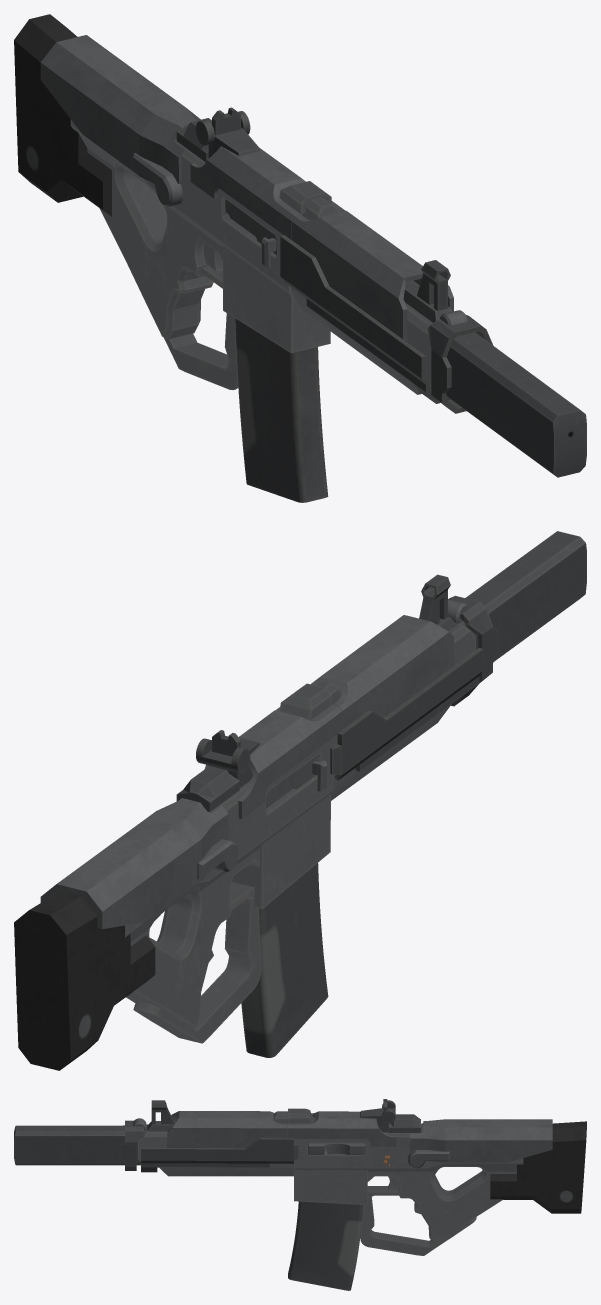
3 views of the same model, one above another, from view 1: azimuth 30°, elevation 25°; view 2: azimuth 150°, elevation 25°; view 3: azimuth 270°, elevation 25° (orthographic). The views are drawn at different scales.
Parts seen in each view (by area): view 1: add1_lo_ADD_0, clip_lo_Scope_0, body_lo_Material_0; view 2: add1_lo_ADD_0, clip_lo_Scope_0, body_lo_Material_0; view 3: add1_lo_ADD_0, clip_lo_Scope_0, body_lo_Material_0.
Part boxes in pixels (left/top/right/bottom): add1_lo_ADD_0: left=14, top=14, right=468, bottom=341; clip_lo_Scope_0: left=176, top=107, right=586, bottom=502; body_lo_Material_0: left=70, top=119, right=432, bottom=394; add1_lo_ADD_0: left=14, top=599, right=467, bottom=1070; clip_lo_Scope_0: left=176, top=531, right=586, bottom=1057; body_lo_Material_0: left=125, top=624, right=475, bottom=1043; add1_lo_ADD_0: left=133, top=1111, right=586, bottom=1213; clip_lo_Scope_0: left=14, top=1099, right=420, bottom=1290; body_lo_Material_0: left=138, top=1108, right=523, bottom=1255.
Bounding box in the file's own units: 0.5314 × 2.52 × 7.01.
3 materials, 3 textured.
